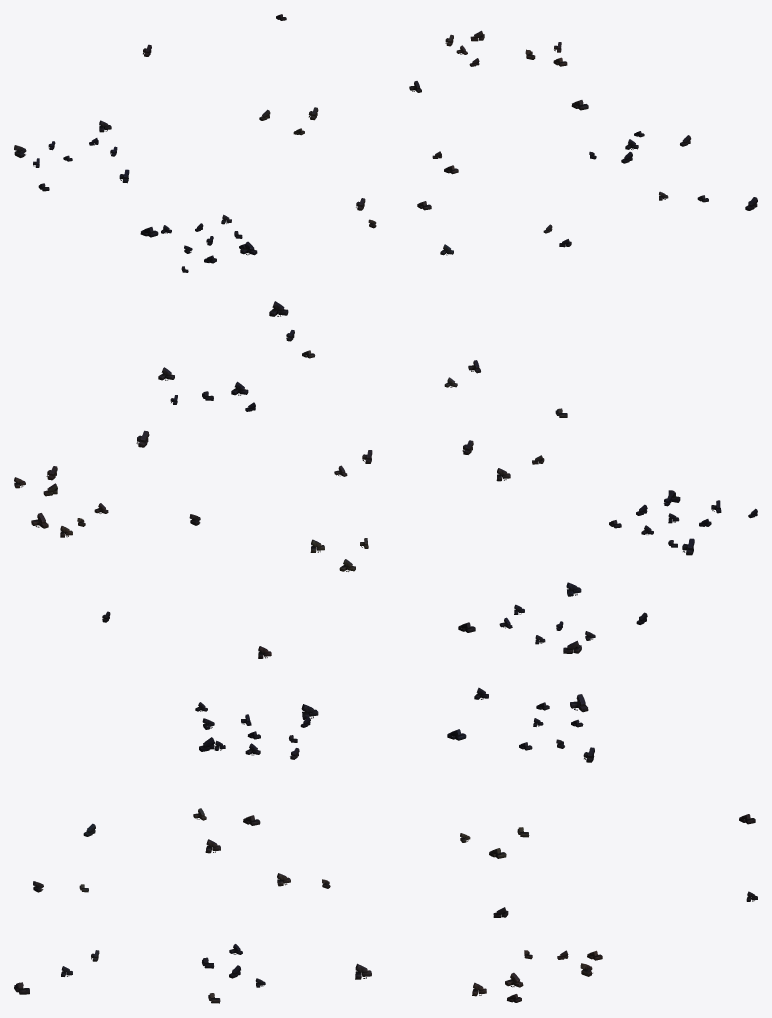
The model's file is dg_rubble_small.glb.
3 renders of one model, top to bottom at view 1: azimuth 30°, elevation 25°; view 2: azimuth 150°, elevation 25°; view 3: azimuth 270°, elevation 25°, orthographic. The views are drawn at different scales.
Visible parts, largest first — view 1: COL_DGP_RUBBLE_SMALL; view 2: COL_DGP_RUBBLE_SMALL; view 3: COL_DGP_RUBBLE_SMALL.
Part boxes in pixels (x1,y1,x2,y2): COL_DGP_RUBBLE_SMALL: (14, 14, 757, 272); COL_DGP_RUBBLE_SMALL: (14, 301, 757, 658); COL_DGP_RUBBLE_SMALL: (14, 687, 757, 1003).
Size of the model in its own units: 46.57 by 0.8461 by 47.6.
Materials: 1 (1 with a texture image).
